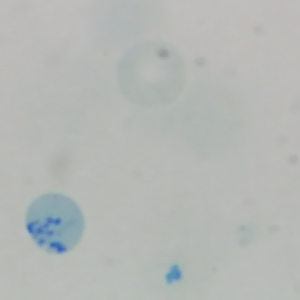aggregate reticulocyte: (23, 192, 87, 257)
erythrocyte: (113, 38, 188, 110)
